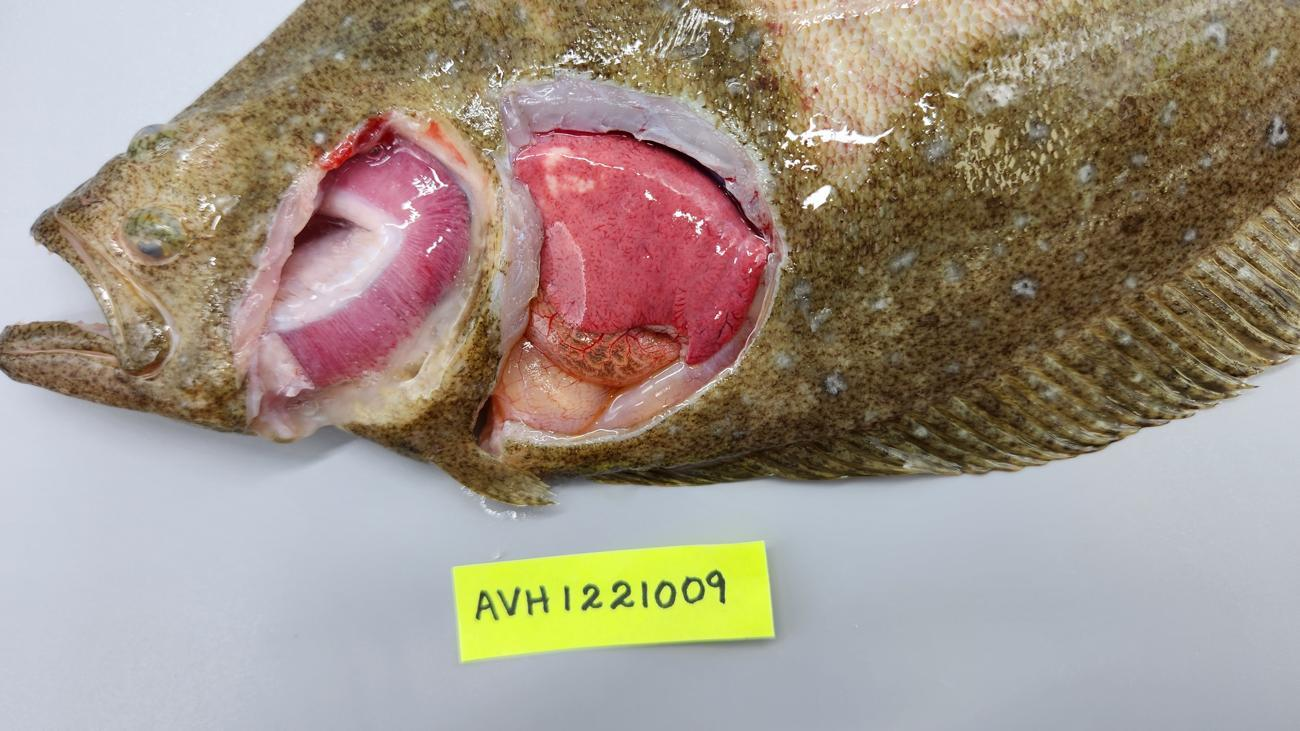VIGIP: (285, 138, 469, 389)
VILIC: (567, 131, 770, 365)
VILII: (514, 132, 584, 317)
